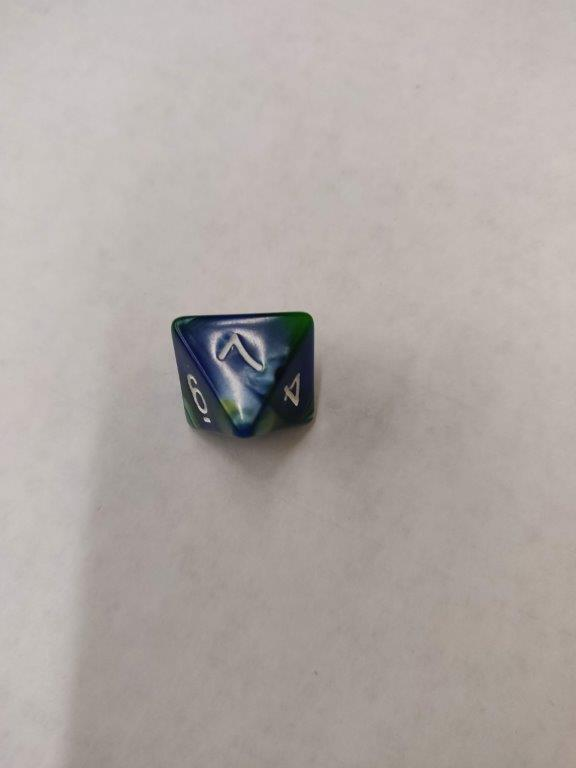d8-7: (173, 311, 319, 434)
